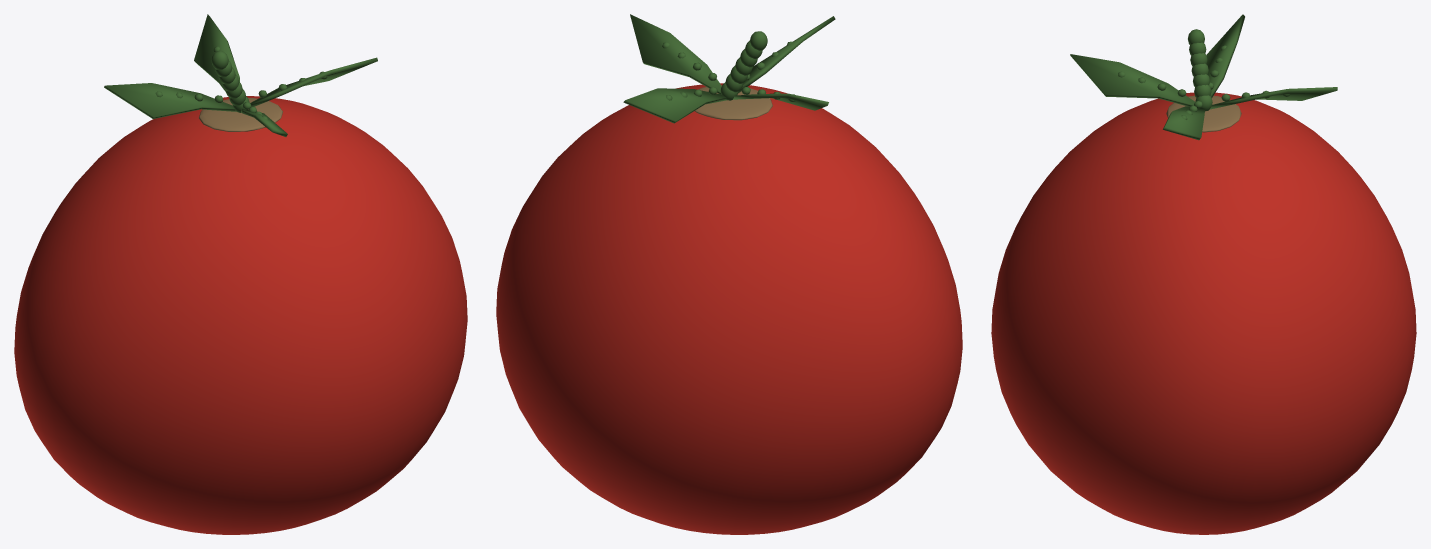
Rendered from early_girl.glb.
The picture shows the model from 3 angles, left to right: view 1: azimuth 30°, elevation 25°; view 2: azimuth 150°, elevation 25°; view 3: azimuth 270°, elevation 25°; orthographic projection. The views are drawn at different scales.
Parts seen in each view (by area): view 1: Compact four-shouldered Early Girl, Four narrow swept-back Early Girl leaves, Early Girl recessed crown socket; view 2: Compact four-shouldered Early Girl, Four narrow swept-back Early Girl leaves, Early Girl recessed crown socket; view 3: Compact four-shouldered Early Girl, Four narrow swept-back Early Girl leaves, Early Girl recessed crown socket.
Part boxes in pixels (box(x1,y1,x2,y2)): Compact four-shouldered Early Girl: box(14, 96, 467, 534); Four narrow swept-back Early Girl leaves: box(104, 14, 377, 136); Early Girl recessed crown socket: box(199, 98, 282, 131); Compact four-shouldered Early Girl: box(496, 83, 962, 534); Four narrow swept-back Early Girl leaves: box(623, 14, 835, 123); Early Girl recessed crown socket: box(695, 85, 772, 120); Compact four-shouldered Early Girl: box(991, 92, 1416, 534); Four narrow swept-back Early Girl leaves: box(1070, 14, 1337, 140); Early Girl recessed crown socket: box(1166, 95, 1241, 132).
Bounding box in the file's own units: 1.25 × 1.36 × 1.12.
